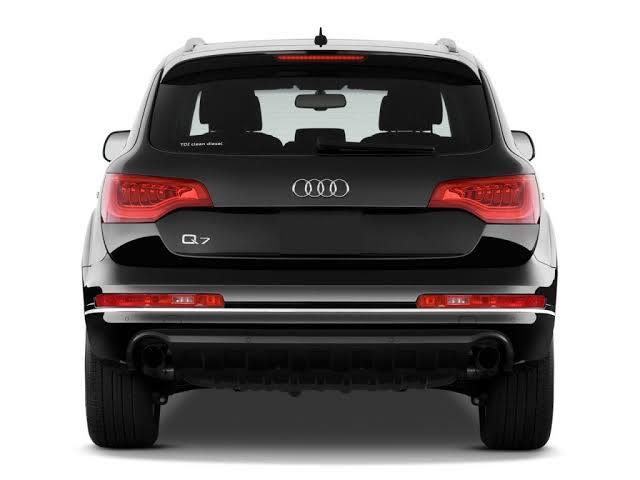audi: (67, 21, 568, 464)
